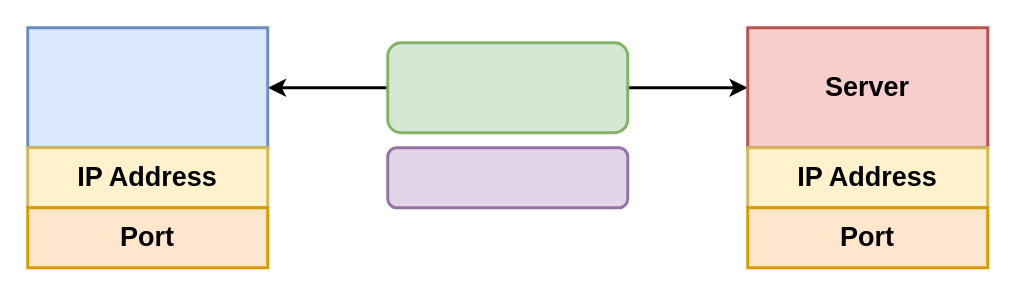
Some shapes in this 1014 by 294 pixel diagram are drawn without their labels. The centre of each missing label's shape, as x and y in pixels:
Client: (147,87)
Packets: (507,177)
TCP/IP: (507,87)
